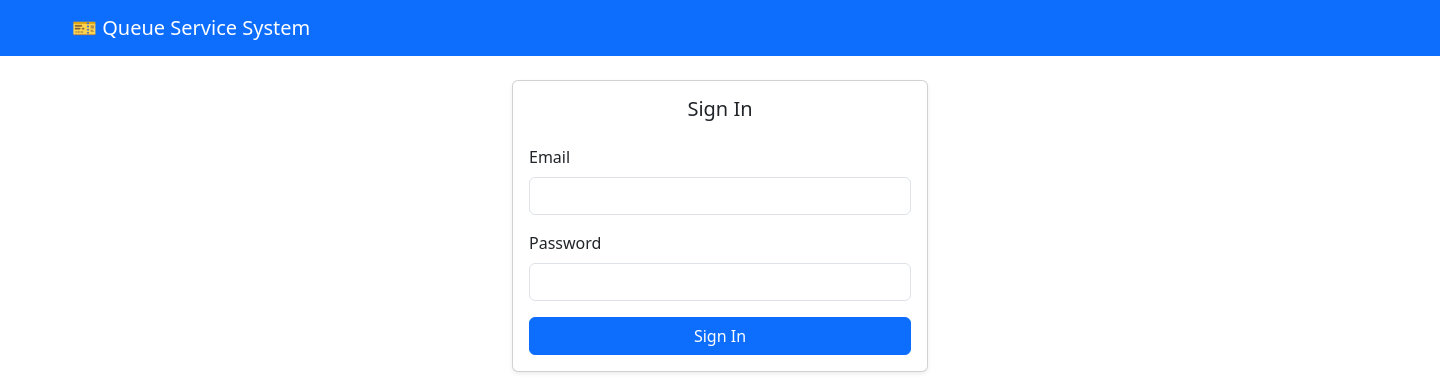
Scenario: UI-02: Successful Customer login shows customer dashboard › renders customer dashboard after successful login
This screenshot has width=1440, height=391.
Check: the form with test id "login-form" is shown, box [529, 145, 911, 355]
Type "customer1@test.com" into the field with test id "email-input" at (720, 196), box [529, 177, 911, 215]
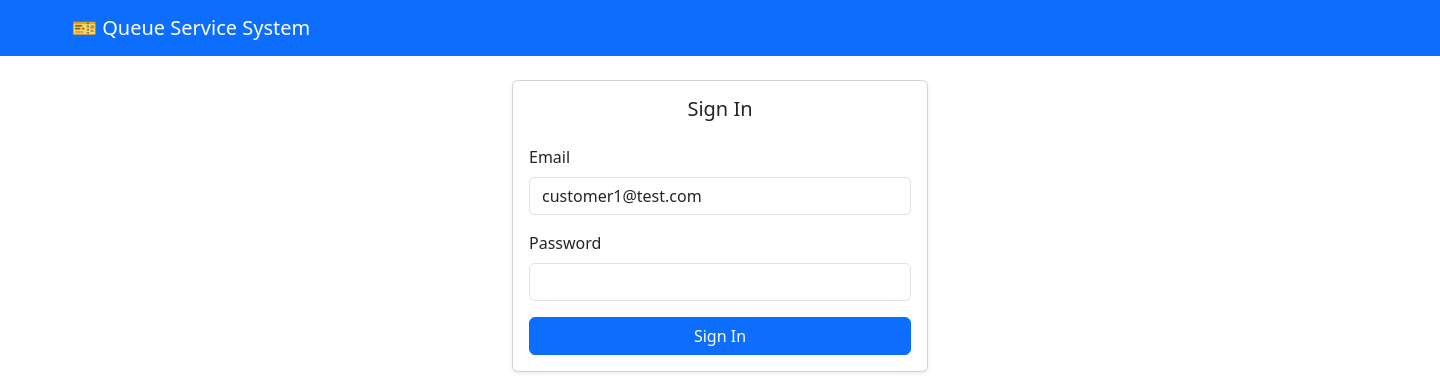
Type "password123" into the password field with test id "password-input" at (720, 282), box [529, 263, 911, 301]
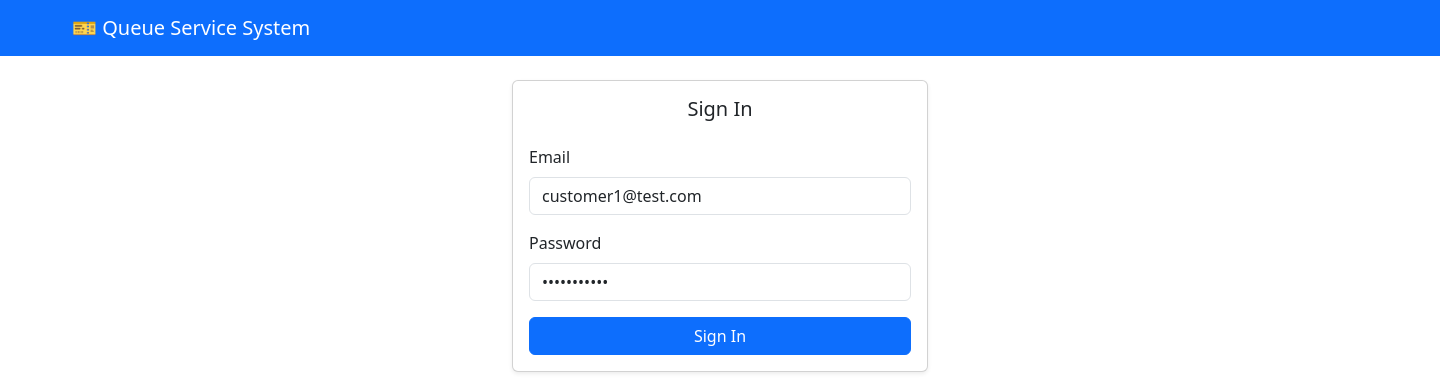
Click the button with test id "login-btn" at (720, 336), box [529, 317, 911, 355]
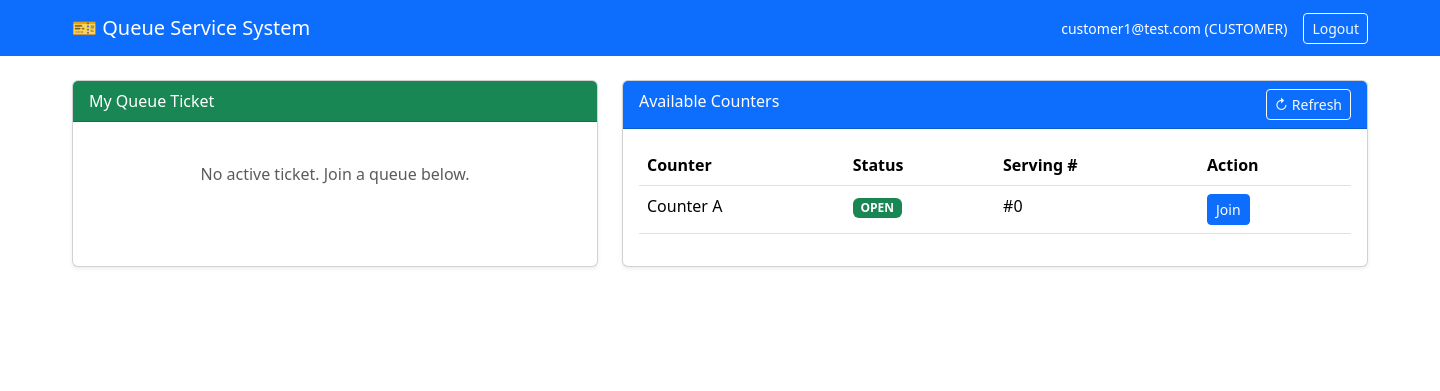
Check: the element with test id "customer-dashboard" is shown, box [60, 56, 1380, 267]
